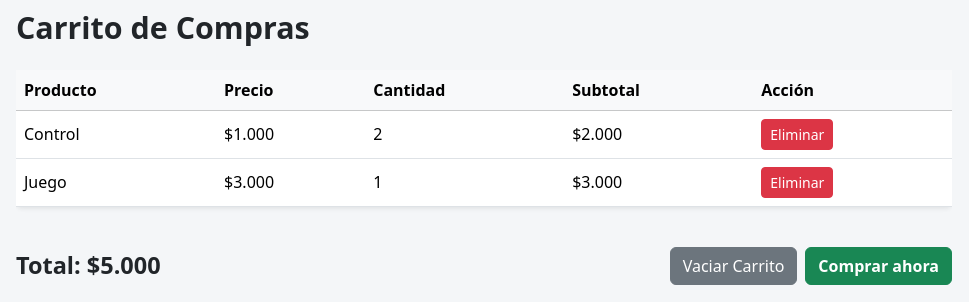
calcula total por cantidades y recalcula al eliminar
The image size is (969, 302).
Expected: the heading "Total: $5.000" is shown, [16,251,161,280]
Click the button "Eliminar" in the row of "Control": click(797, 134) [761,118,833,150]
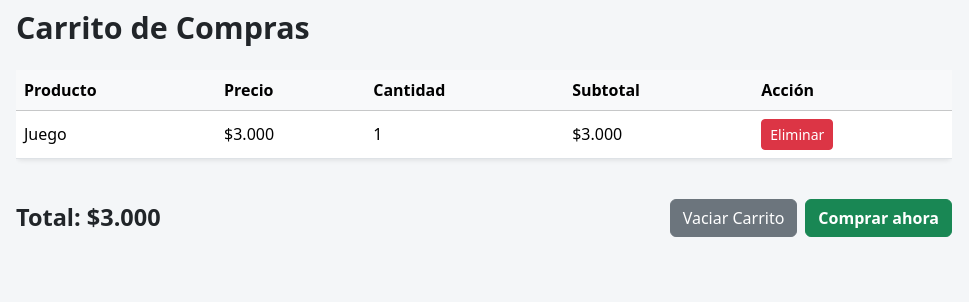
Expected: the heading "Total: $3.000" is shown, [16,203,161,232]
Expected: the text "Control" is gone
